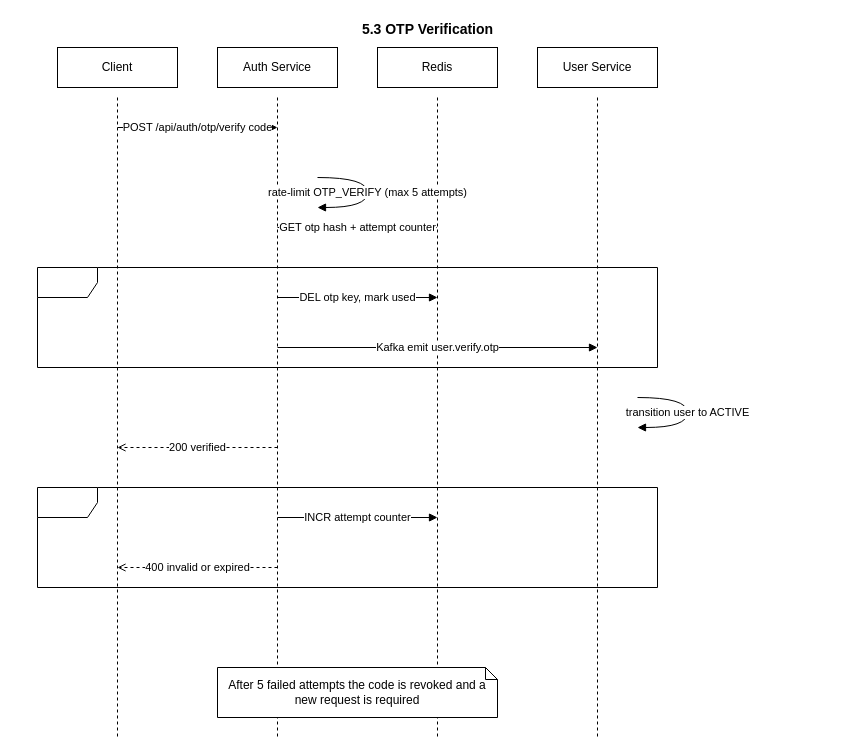
Some shapes in this 854 by 756 pixel diagram are drawn without their labels. The centre of each missing label's shape, as x and y in pixels:
"alt code matches and not expired" goes at pixel 347 317.
"else invalid or expired" goes at pixel 347 537.
